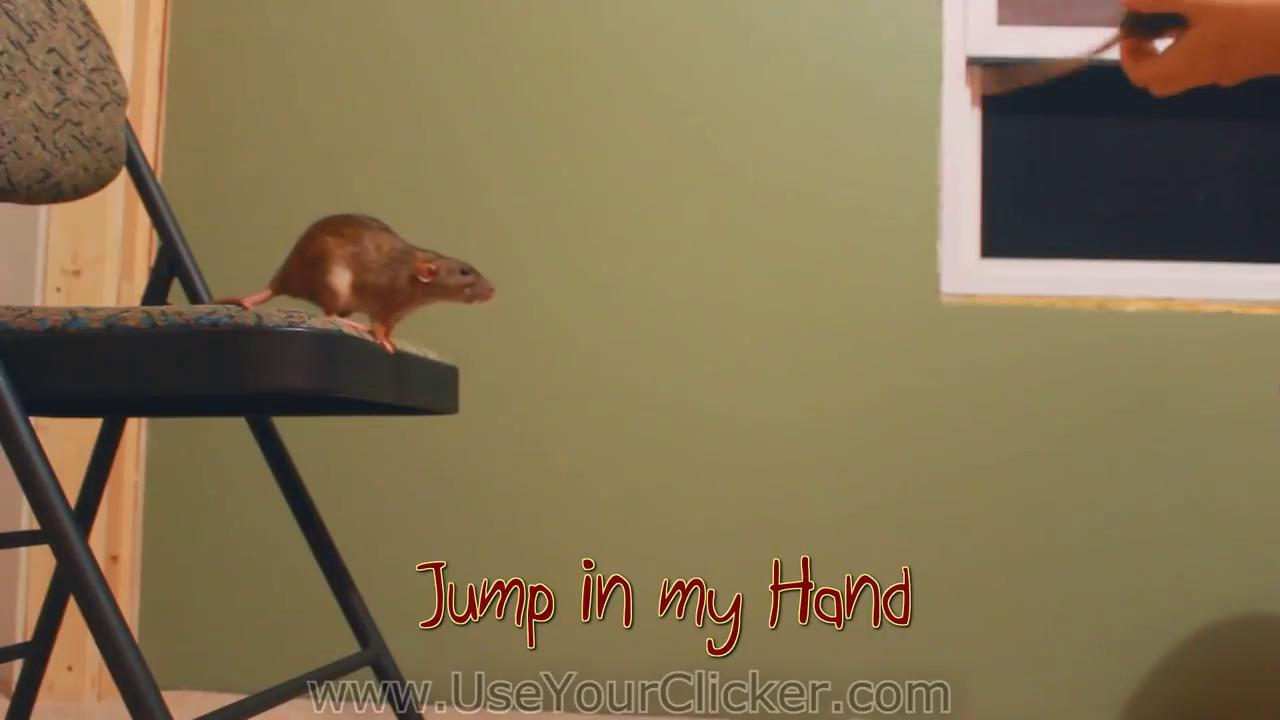rat: (207, 211, 500, 356)
